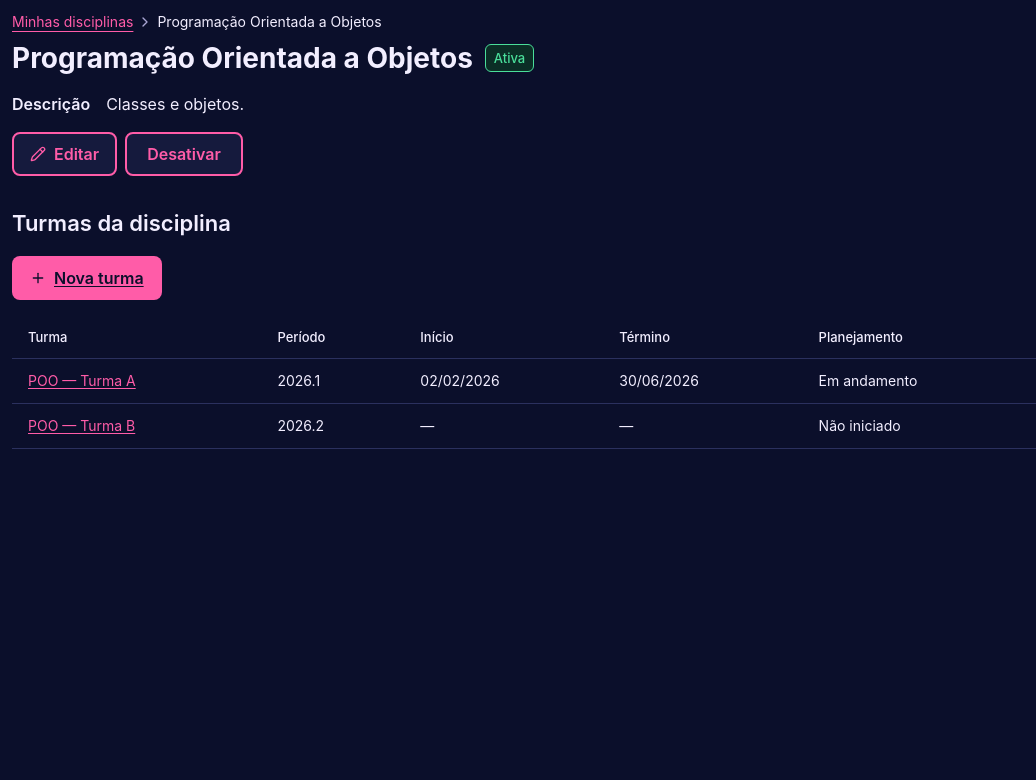
Test case: 004/US1-3 004/US1-6 SubjectDetail — dados, turmas da disciplina e situação › Editar abre o formulário no lugar; salvar mostra Disciplina salva.
Click the button "Editar". click: {"x": 65, "y": 154}
box: [12,132,117,176]
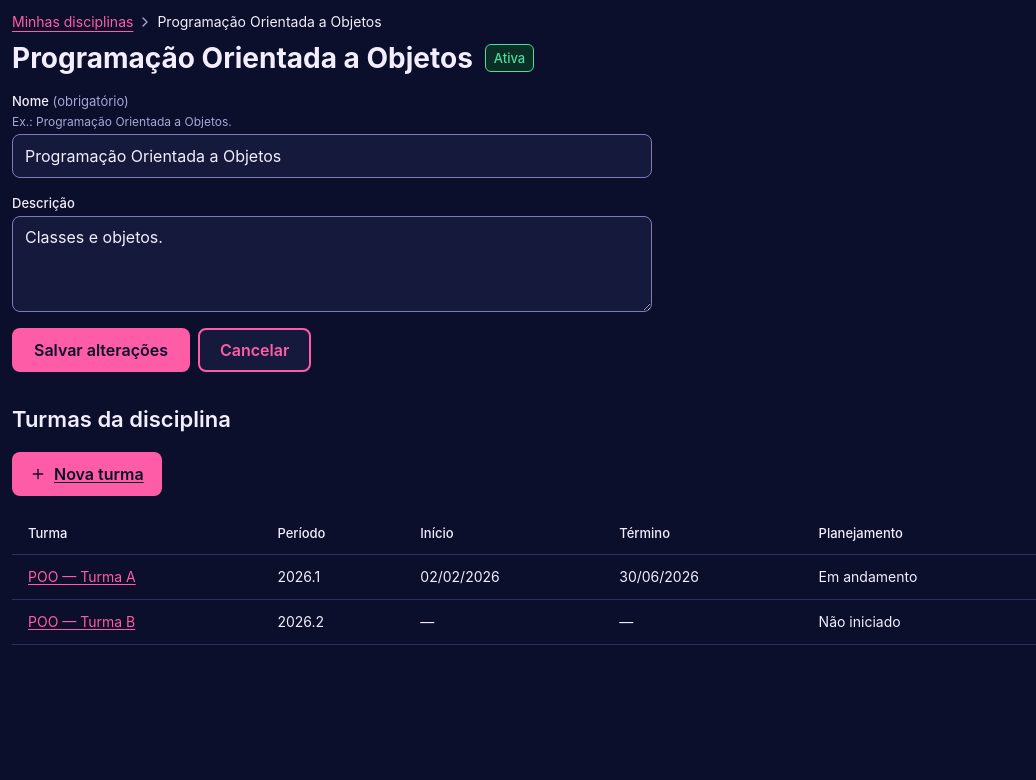
Replace the text in the text box labelled "Descrição" with "Nova". click: {"x": 332, "y": 264}
box: [12,216,652,312]
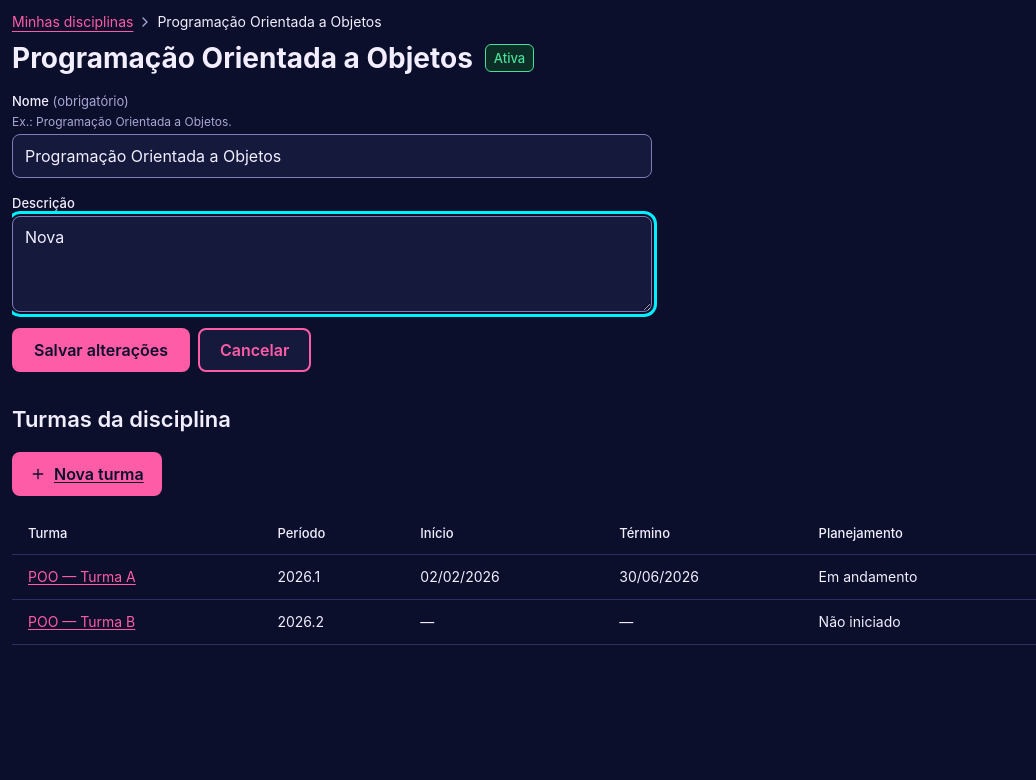
Click the button "Salvar alterações". click: {"x": 101, "y": 350}
box: [12,328,190,372]
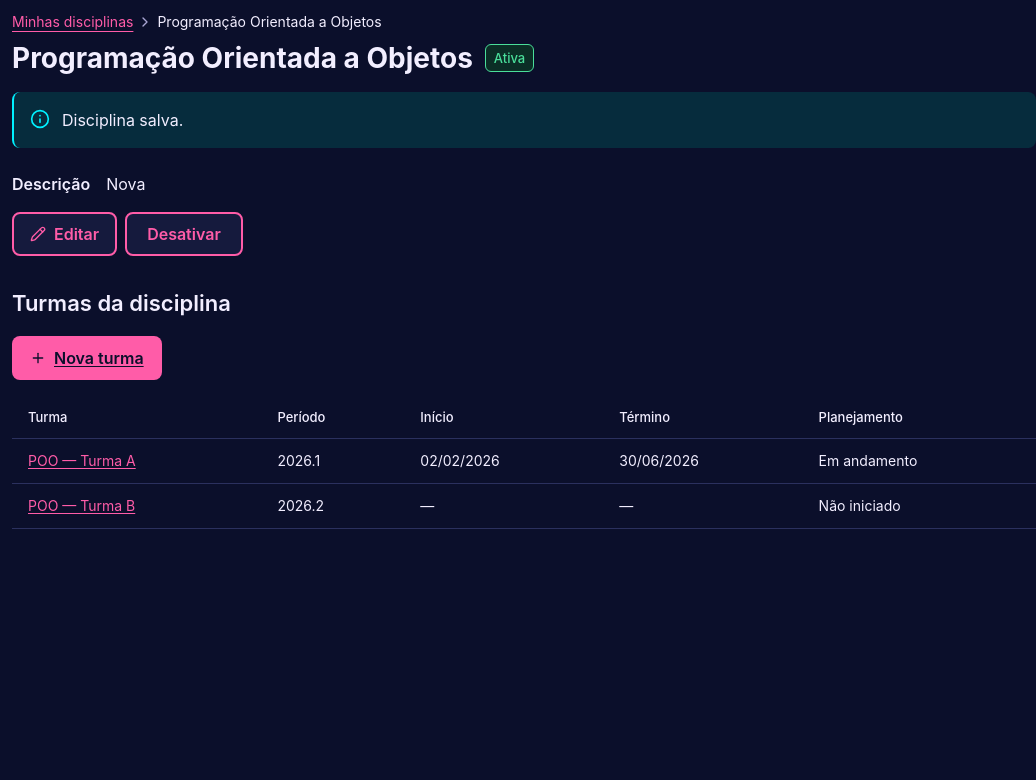
Check: the message reads "Disciplina salva.", box [62,110,183,130]
